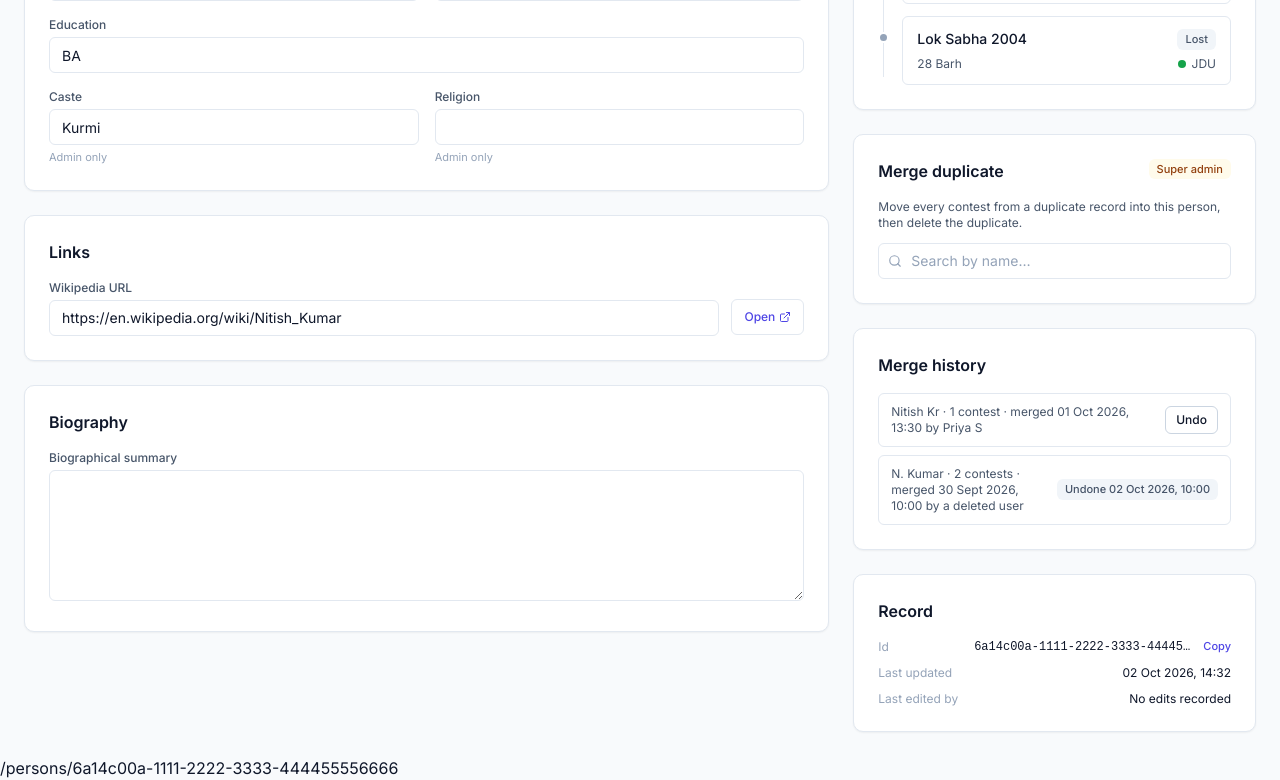
Scenario: Merge history › a SUPER_ADMIN undoes an undoable merge after a confirm that names what comes back; the record and list refresh
This screenshot has width=1280, height=780.
(page scrolled)
Click the button "Undo".
click(1192, 420)  # box [1165, 406, 1218, 434]
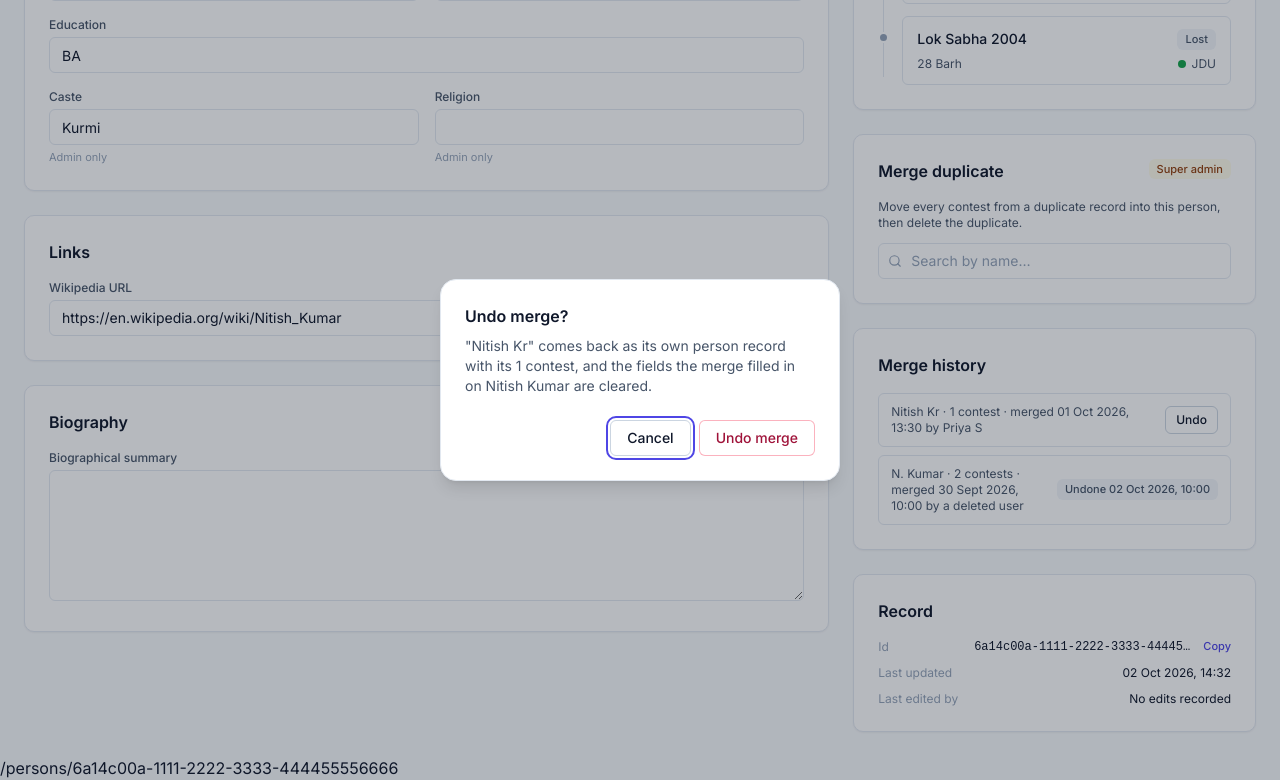
Result: the text "\"Nitish Kr\" comes back as its own person record with its 1 contest, and the fields the merge filled in on Nitish Kumar a" is shown at [465, 337, 795, 394]
Click the button "Undo merge".
click(757, 438)  # box [699, 420, 815, 456]
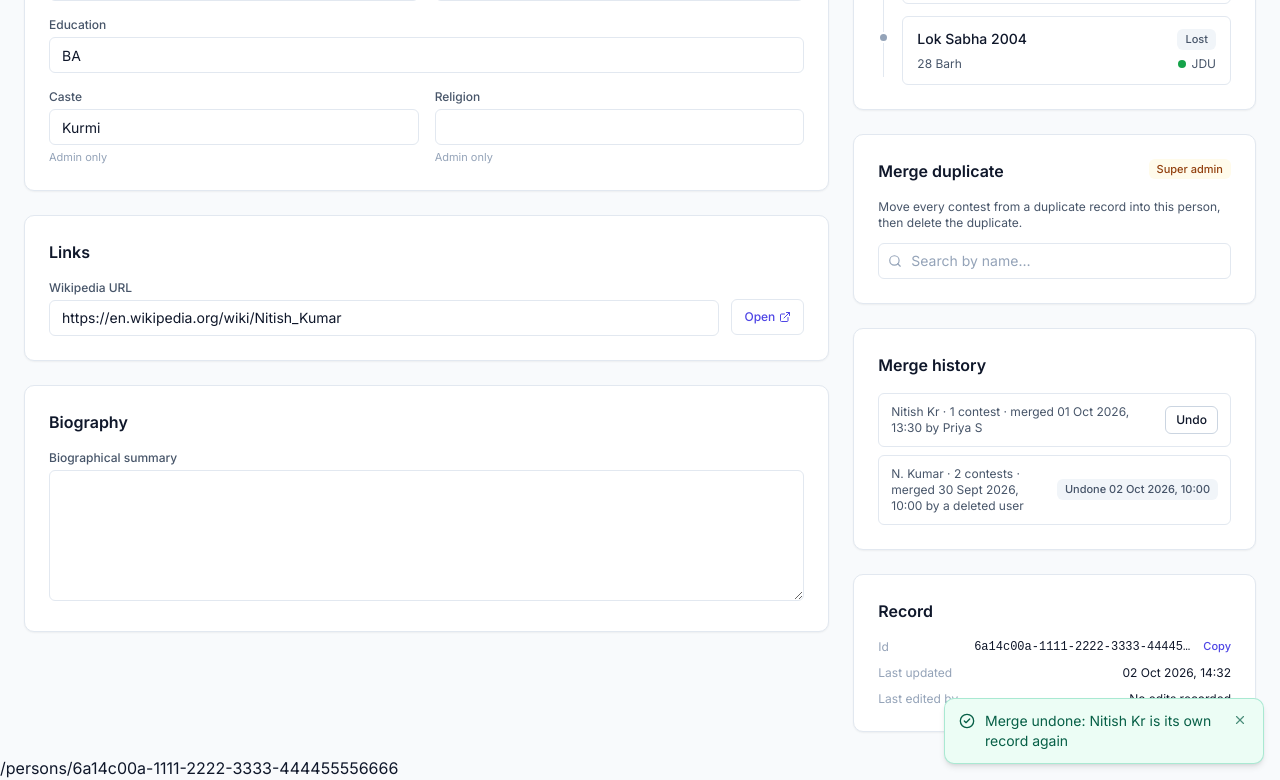
Result: the text "Merge undone: Nitish Kr is its own record again" is shown at [985, 711, 1221, 751]
